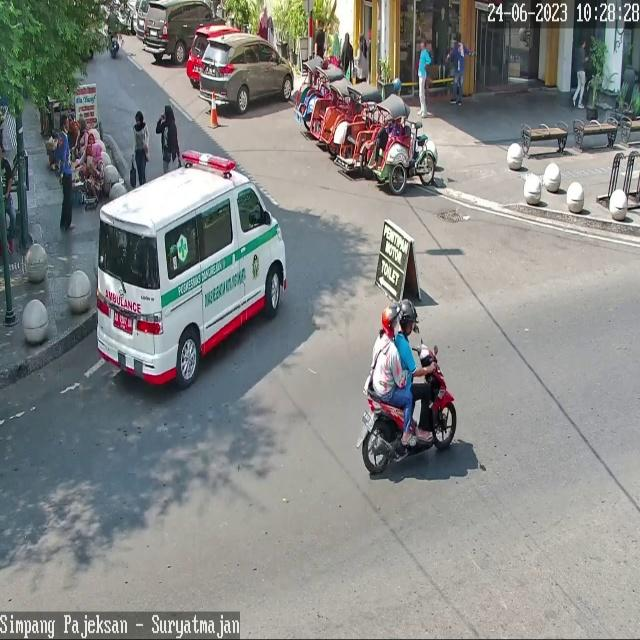bus: (362, 344, 457, 474)
motorcycle: (97, 162, 286, 384), (201, 34, 294, 114), (144, 0, 227, 63), (186, 24, 242, 82)
